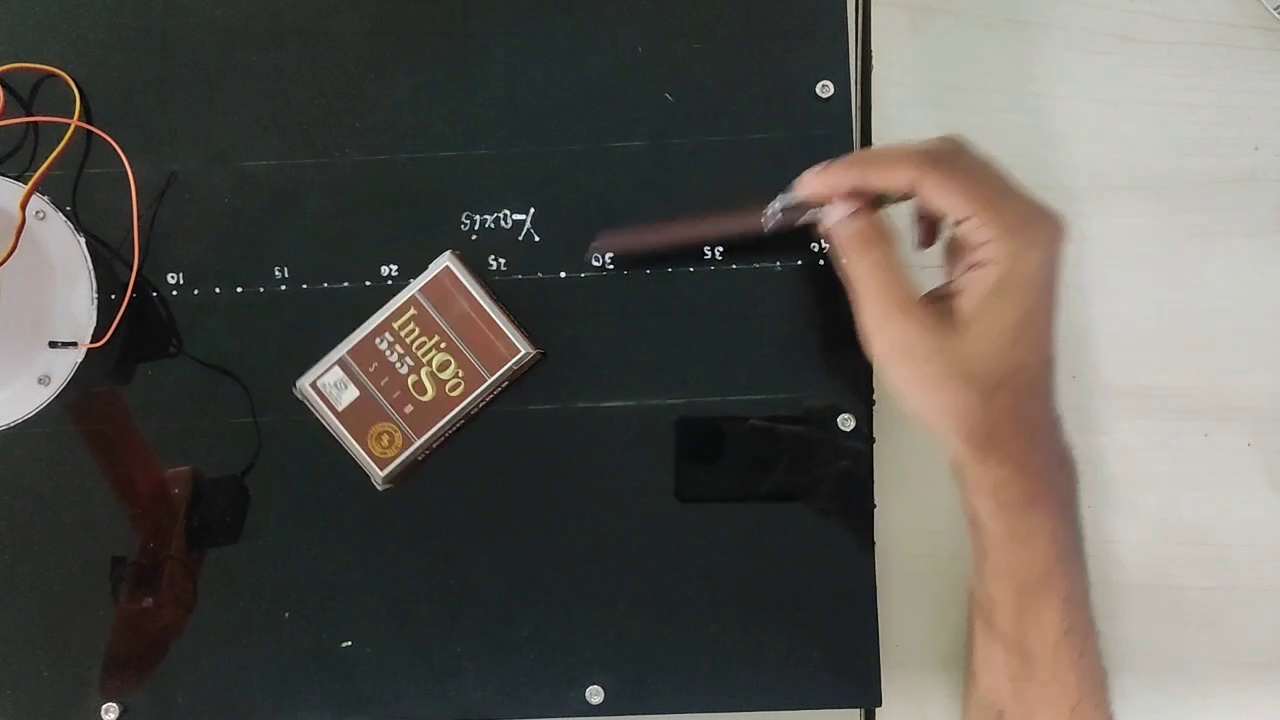BEX: (308, 263, 523, 473)
